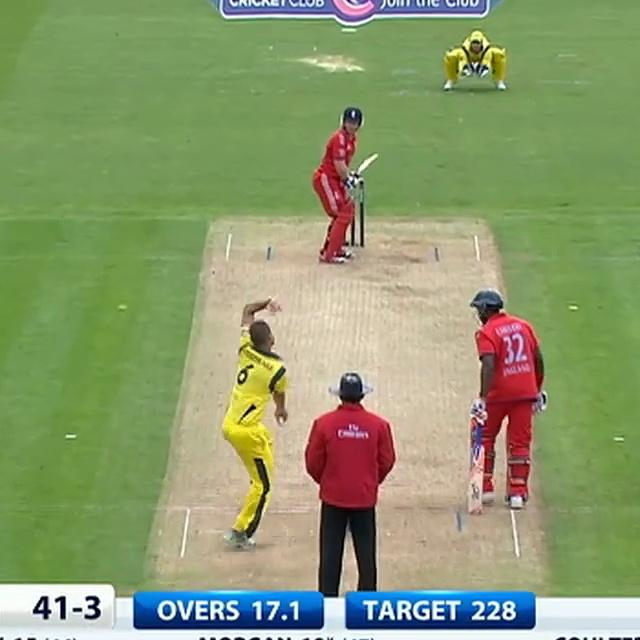umpire: (294, 366, 406, 598)
